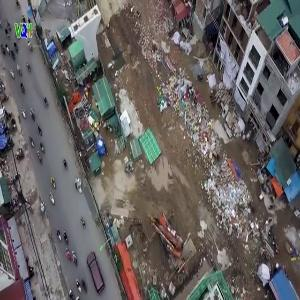drone: (56, 4, 169, 117)
